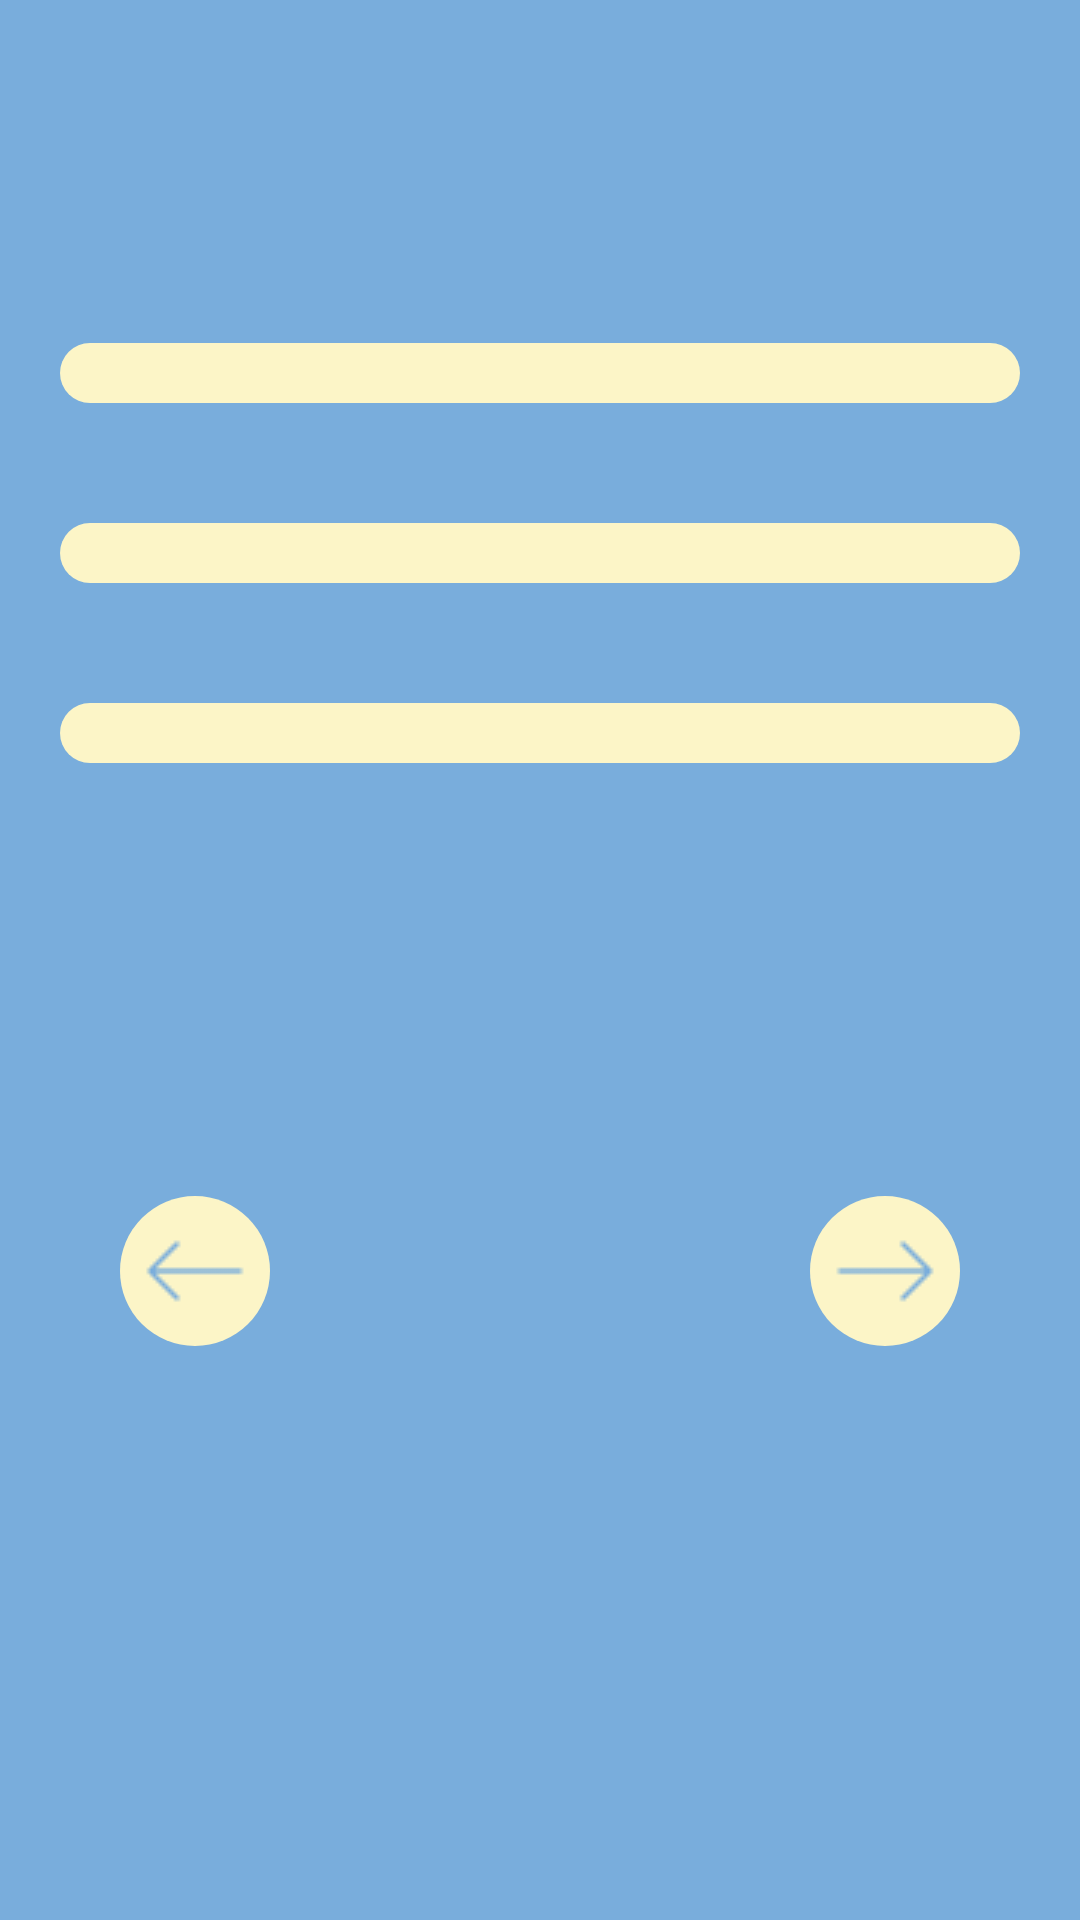

Icon bounding boxes for this 1080px x 1920px phone screenshot, format (x1, y1, x2, y2):
next: (810, 1196, 960, 1346)
previous: (120, 1196, 270, 1346)
